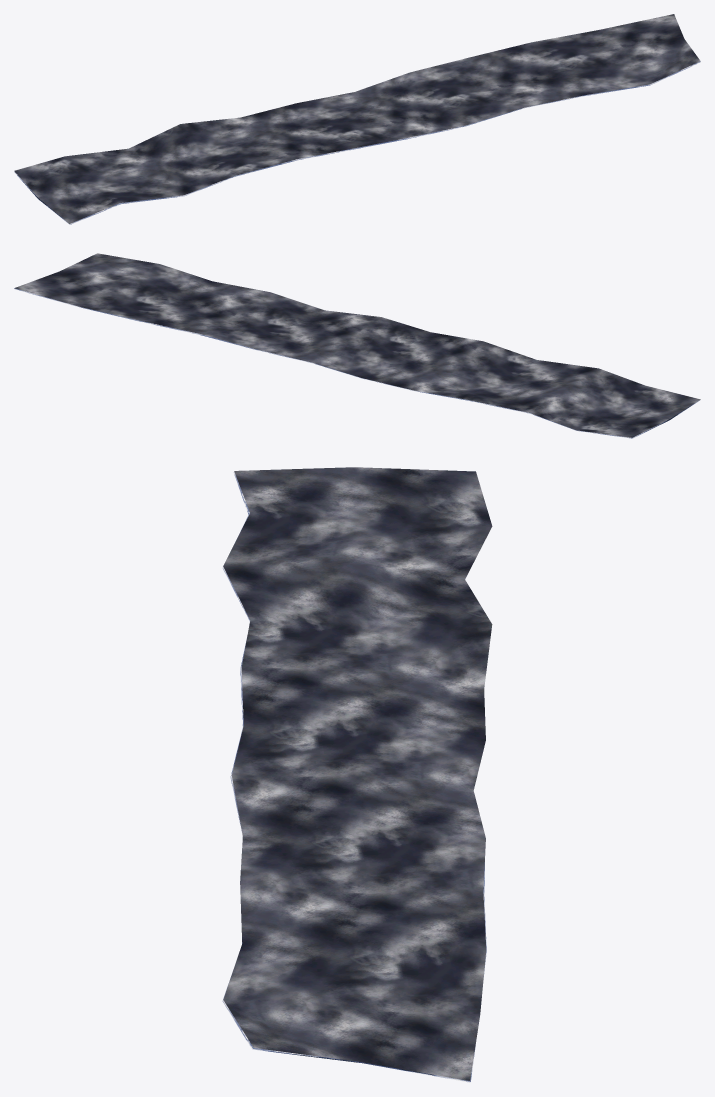
Rendered from LONE_MOUNTAIN_WATERFALLS_MAIN_WATER_GEARS.fbx.
The picture shows the model from 3 angles, top to bottom: view 1: azimuth 30°, elevation 25°; view 2: azimuth 150°, elevation 25°; view 3: azimuth 270°, elevation 25°; orthographic projection. The views are drawn at different scales.
Visible parts, largest first — view 1: LONE_MOUNTAIN_WATERFALLS_MAIN_WATER_GEARS; view 2: LONE_MOUNTAIN_WATERFALLS_MAIN_WATER_GEARS; view 3: LONE_MOUNTAIN_WATERFALLS_MAIN_WATER_GEARS.
Part boxes in pixels (<box>): LONE_MOUNTAIN_WATERFALLS_MAIN_WATER_GEARS: <box>14,14,700,224</box>; LONE_MOUNTAIN_WATERFALLS_MAIN_WATER_GEARS: <box>14,253,700,438</box>; LONE_MOUNTAIN_WATERFALLS_MAIN_WATER_GEARS: <box>222,467,492,1082</box>.
Size of the model in its own units: 181059 by 2287 by 33697.
Materials: 2 (2 with a texture image).
